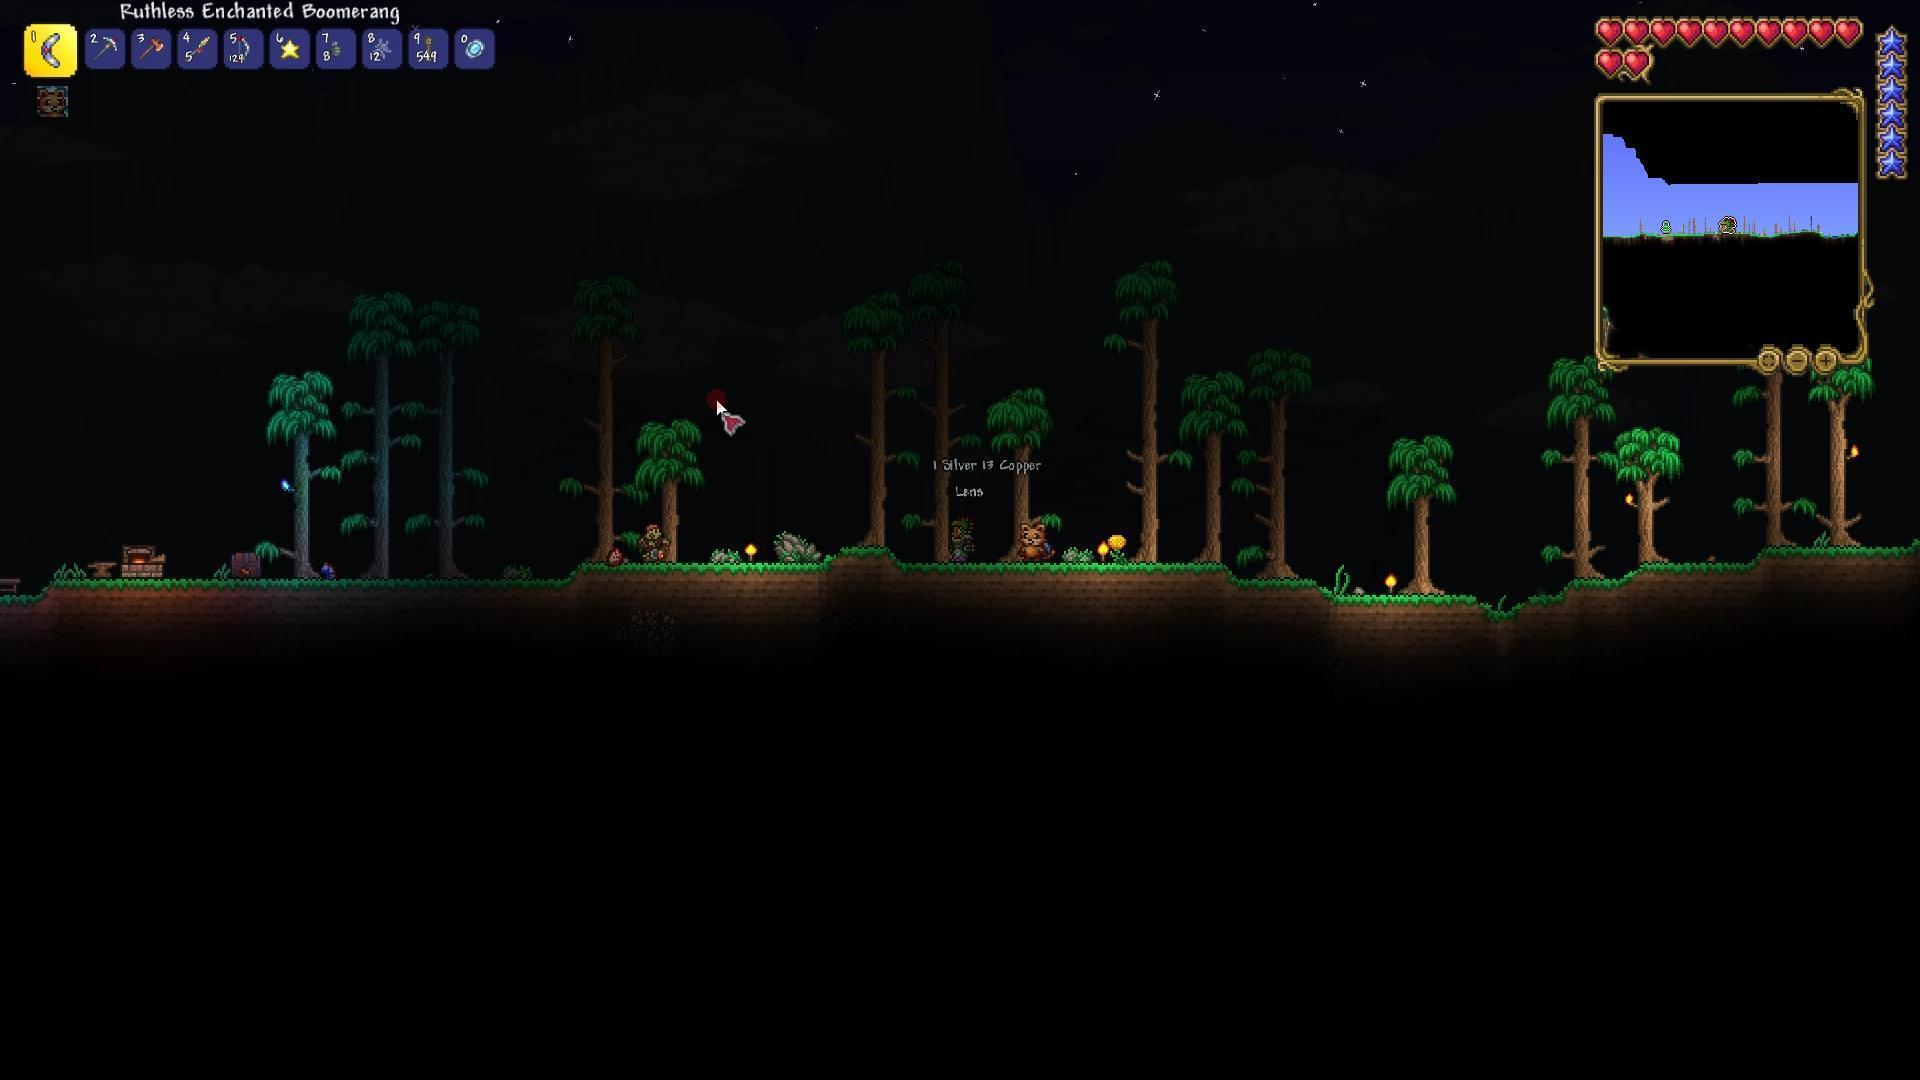anvil: (83, 551, 124, 576)
axe: (137, 36, 166, 61)
chest: (220, 545, 268, 578)
cobwebI: (371, 36, 394, 61)
furnace: (113, 541, 171, 585)
workbench: (0, 567, 32, 599)
zombie: (624, 510, 679, 568)
